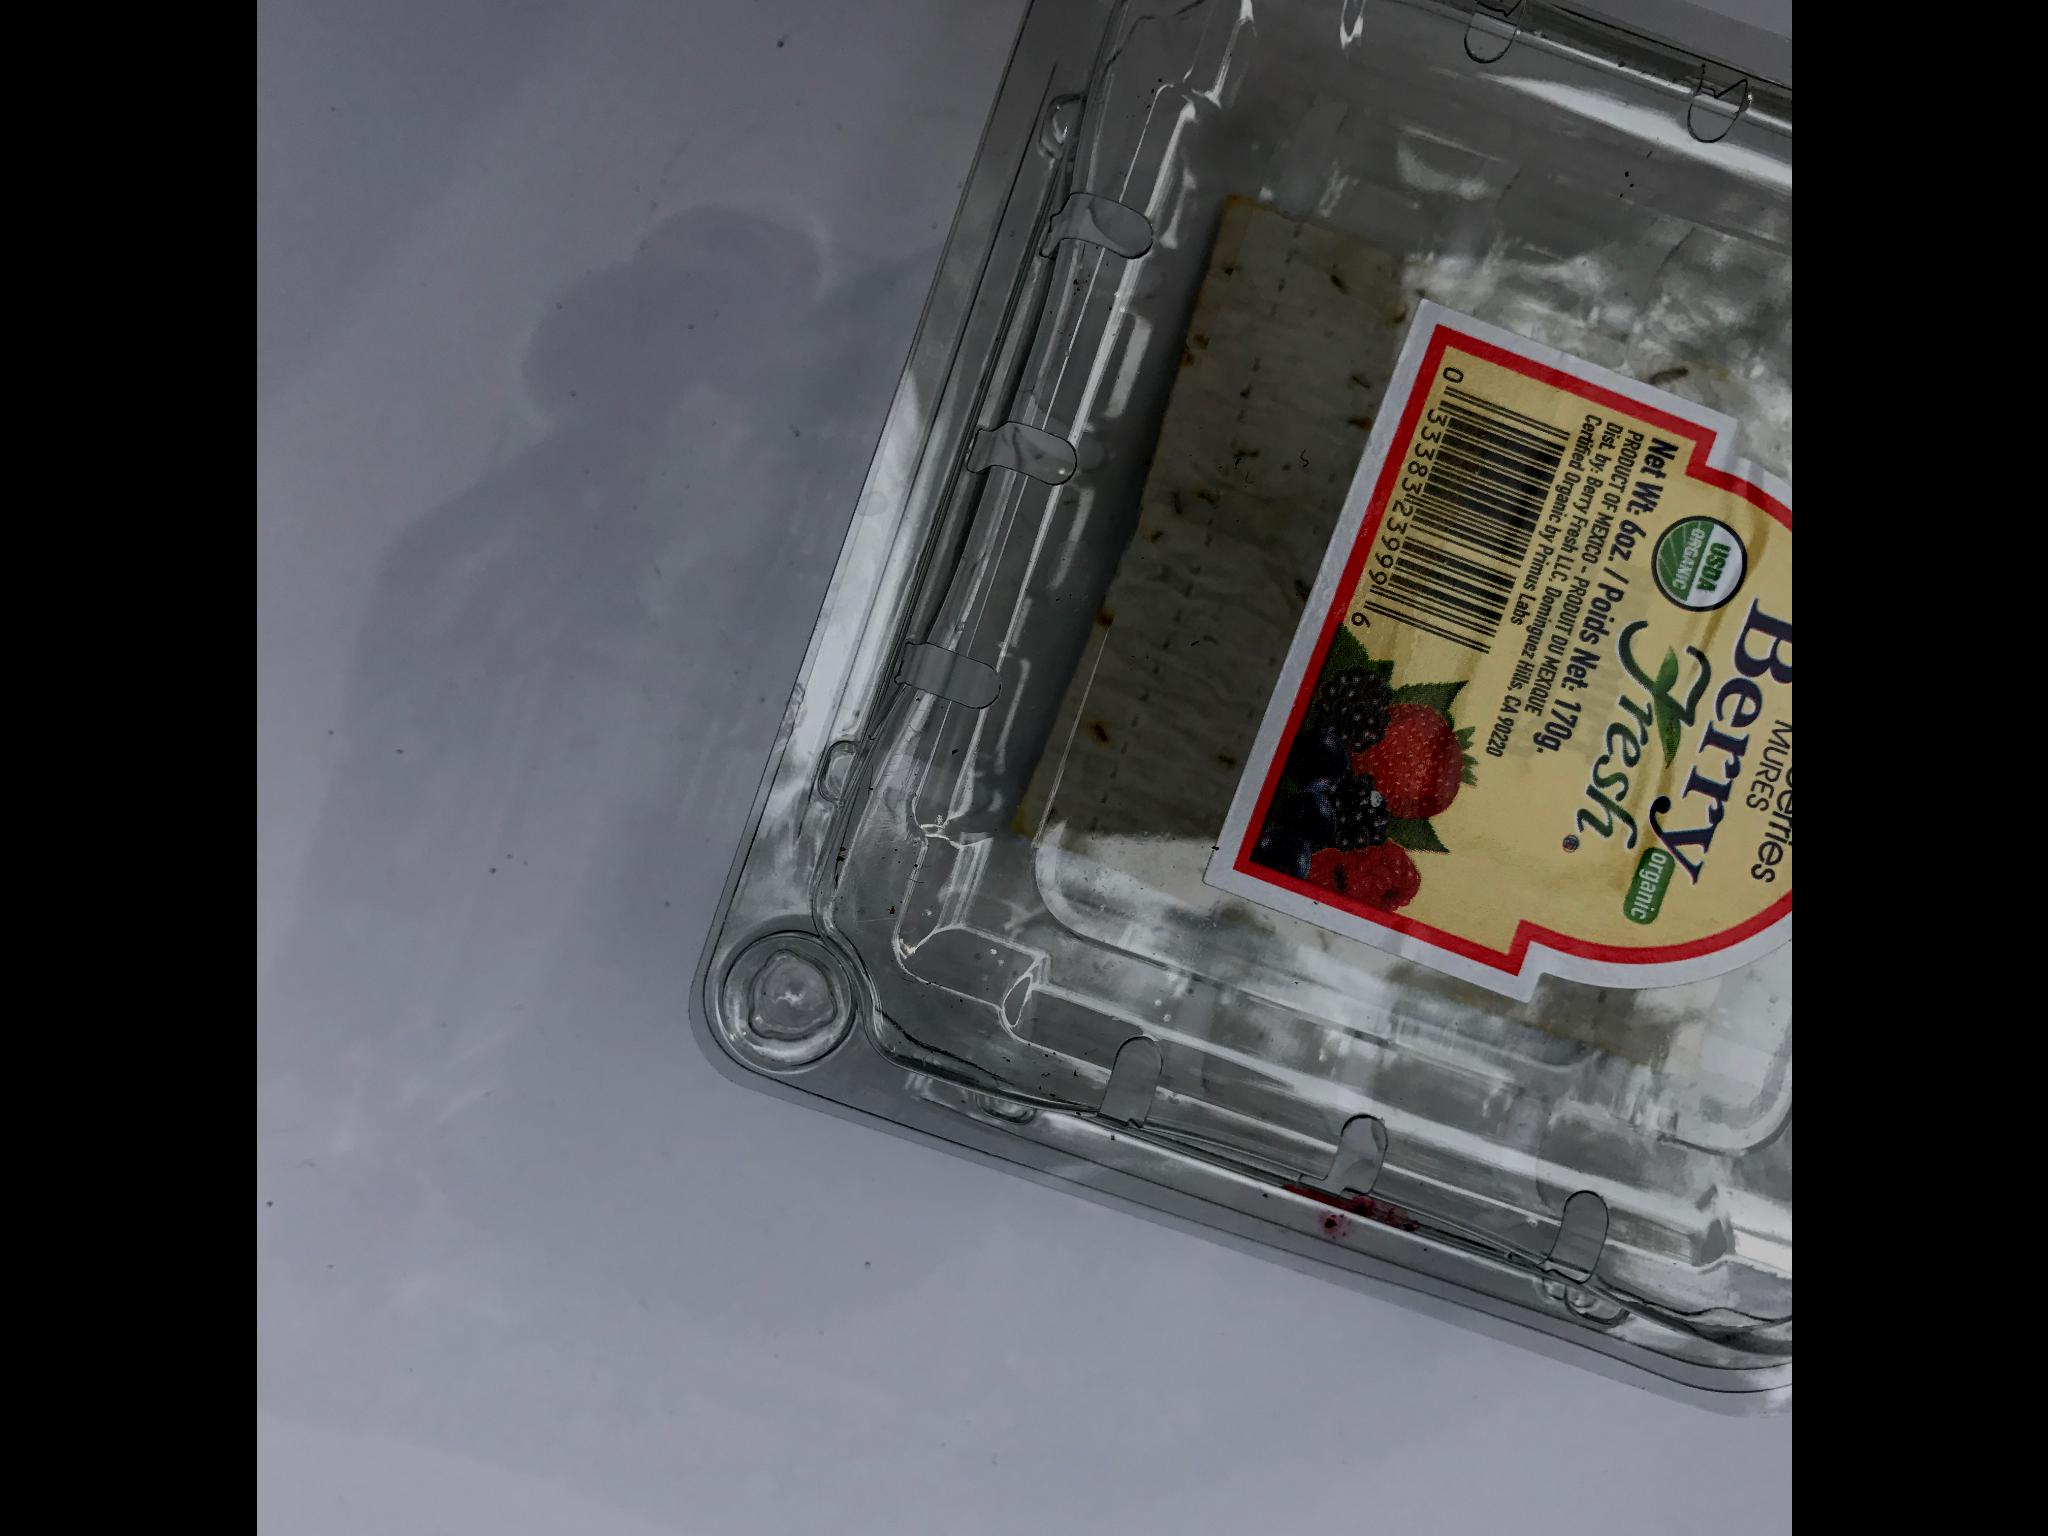Plastic: (677, 0, 1793, 1426)
